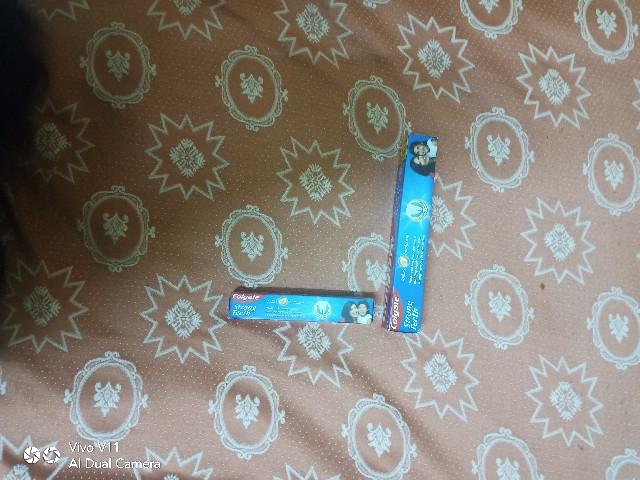colgatetoothpaste big: (380, 123, 442, 341)
colgatetoothpaste small: (215, 283, 381, 333)
